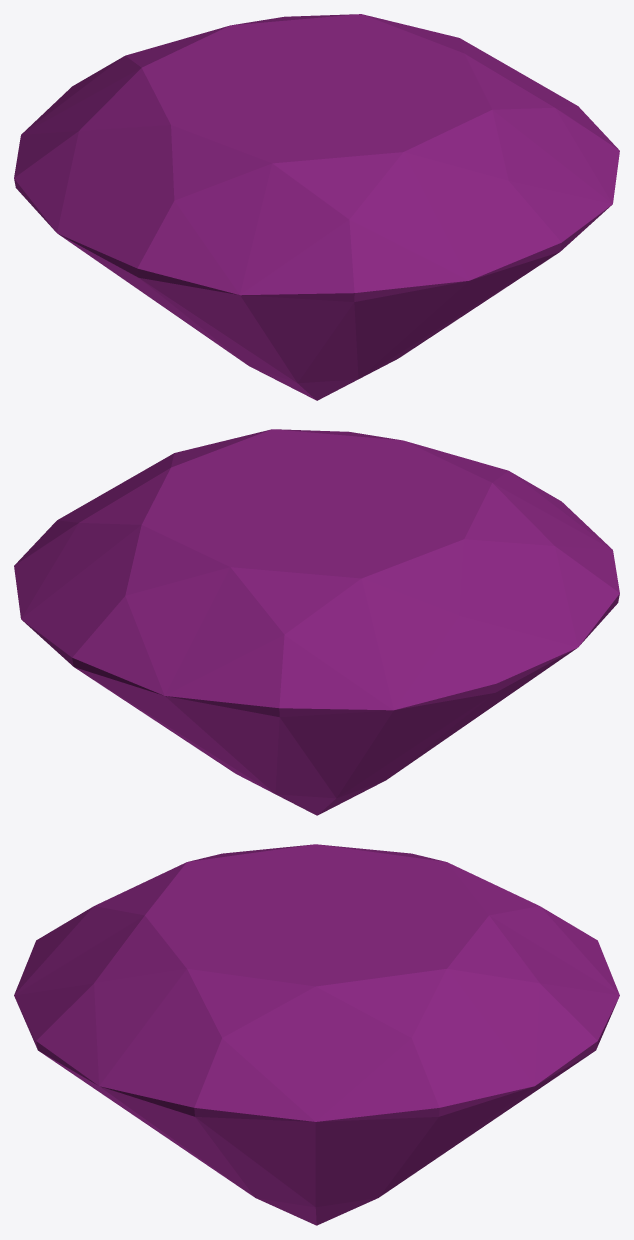
The model's file is Gem009.fbx.
3 views of the same model, one above another, from view 1: azimuth 30°, elevation 25°; view 2: azimuth 150°, elevation 25°; view 3: azimuth 270°, elevation 25° (orthographic).
Visible parts, largest first — view 1: Gem009; view 2: Gem009; view 3: Gem009.
Part boxes in pixels (x1,y1,x2,y2): Gem009: (14, 14, 619, 400); Gem009: (14, 429, 619, 815); Gem009: (14, 844, 619, 1225).
Size of the model in its own units: 248 by 142 by 251.
